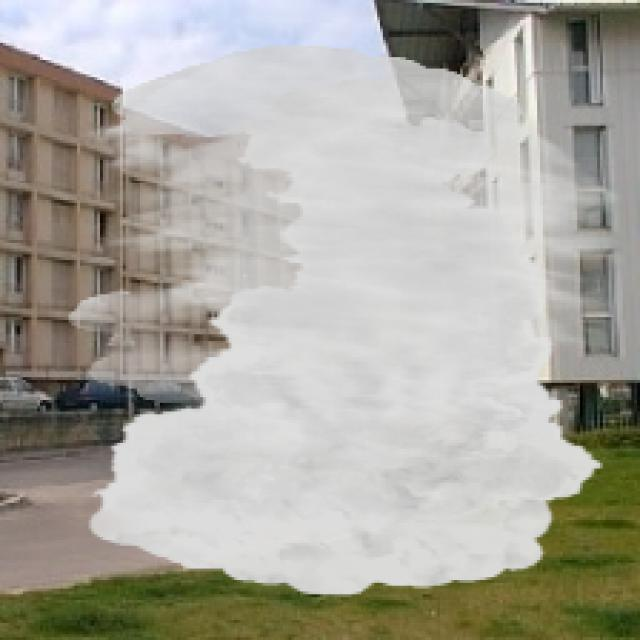Smoke: (69, 45, 626, 598)
